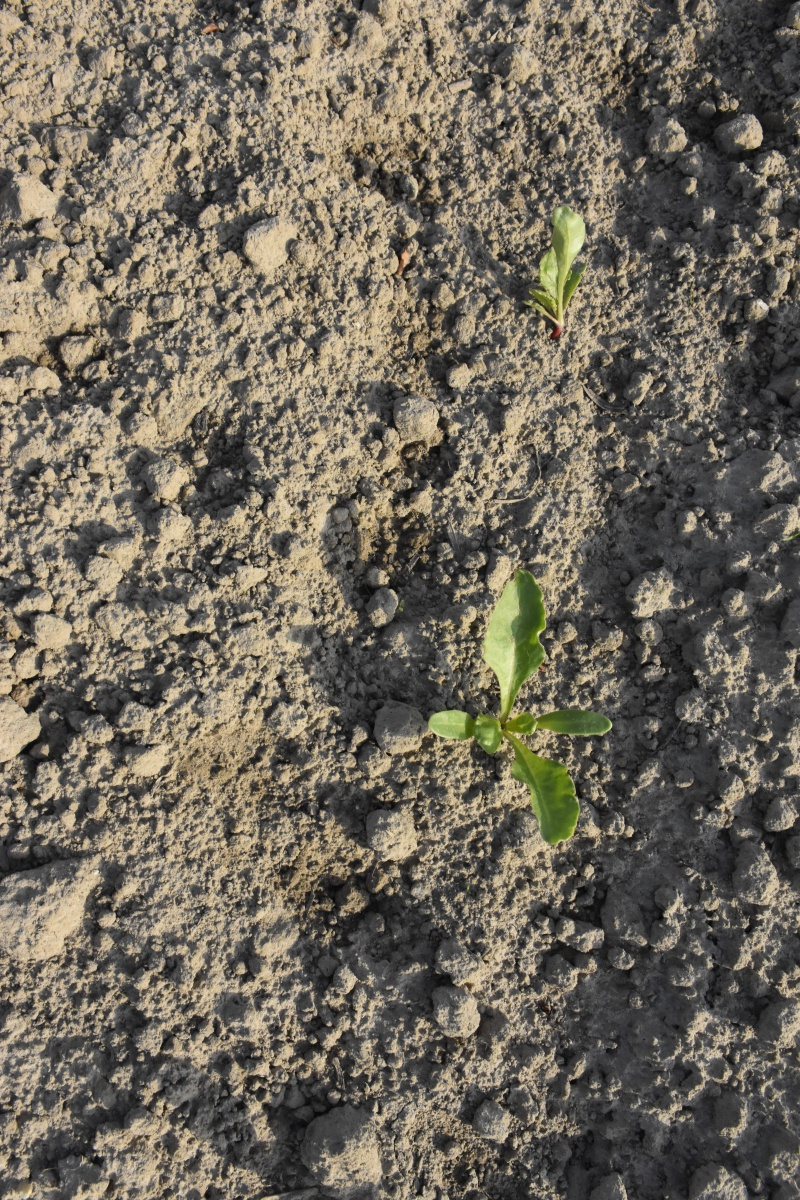sugar beet: (425, 562, 618, 854), (518, 203, 594, 354)
